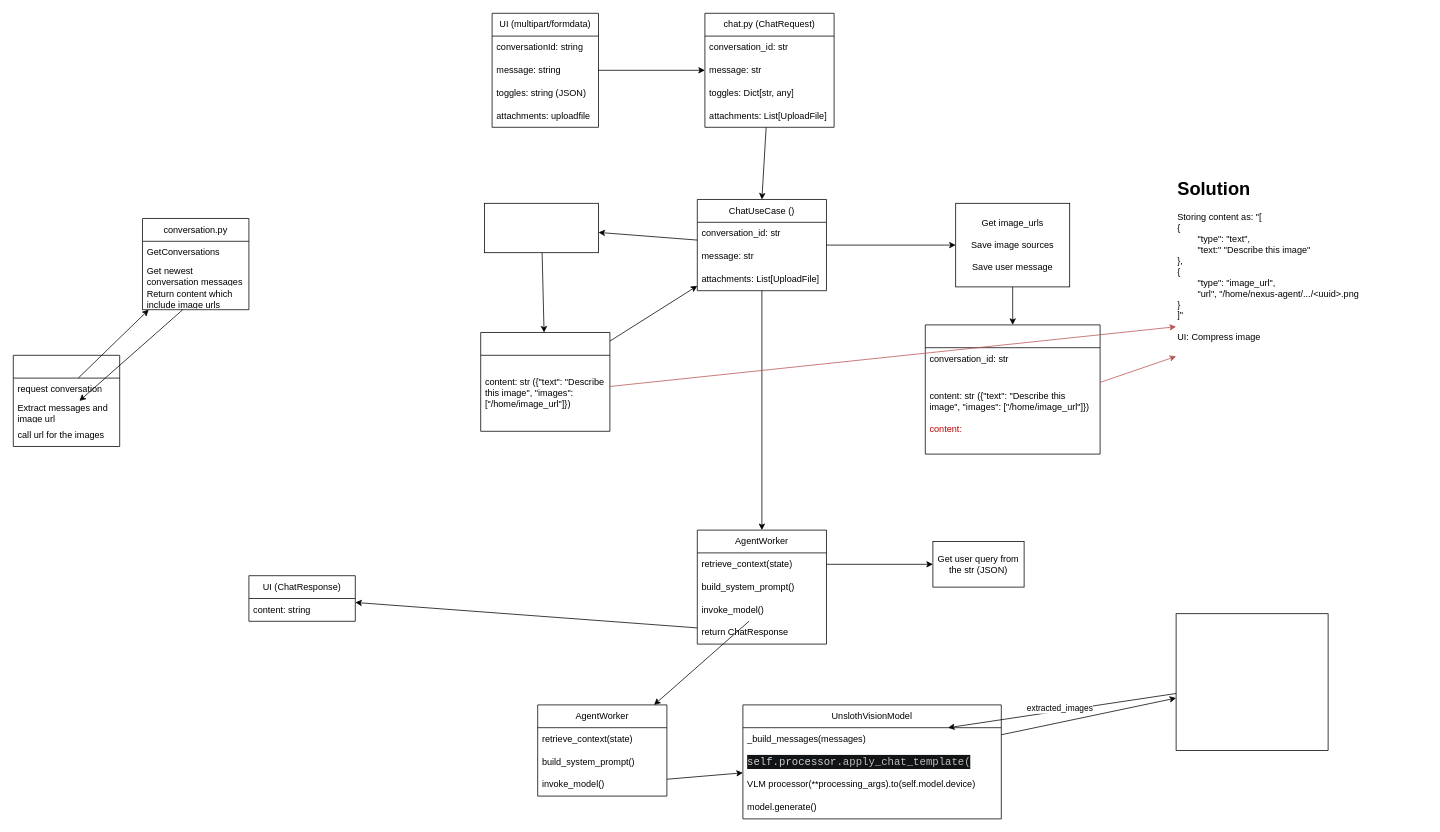
This 1440x832 diagram has some shape labels left out. Here are the shapes that lost their labels. From the top down, the box of each, then its label:
(484, 203, 598, 253): Build history
(13, 355, 120, 446): Get Conversations
(480, 332, 610, 431): LangChain Message list
(925, 324, 1100, 454): agent.db (Messages)
(1175, 613, 1328, 750): "[ { "type": "text", "text:" "Describe this image" }, { "type": "image" } ]"
